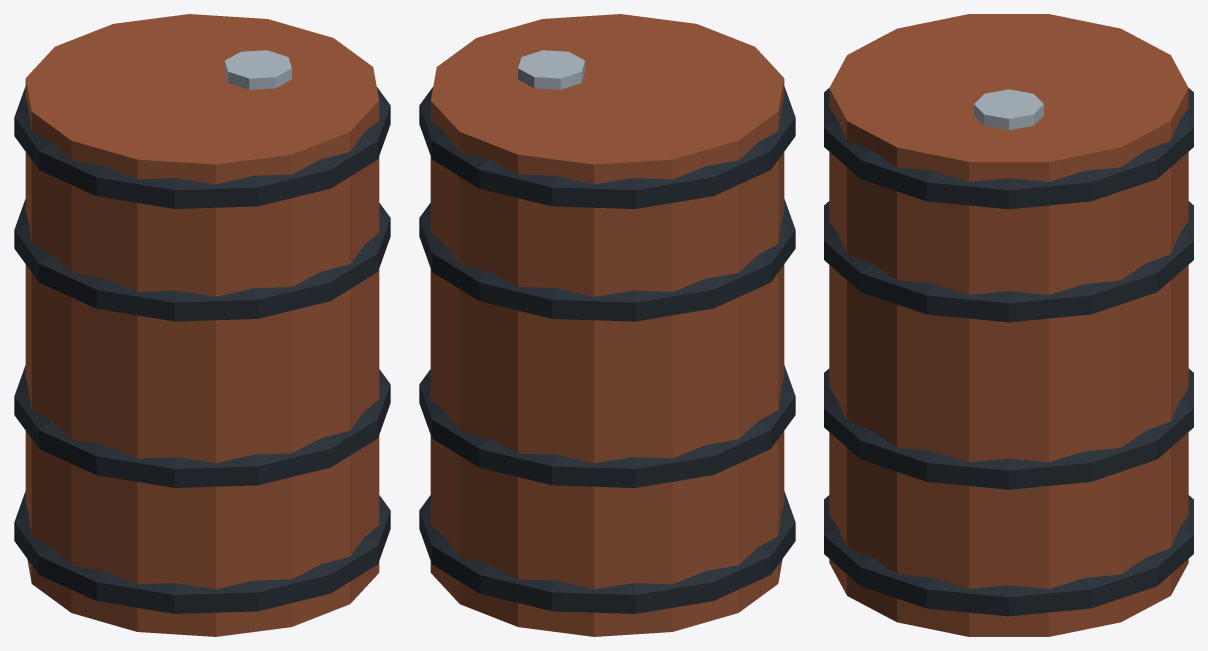
Rendered from oil_barrel_rust.glb.
The picture shows the model from 3 angles, left to right: view 1: azimuth 30°, elevation 25°; view 2: azimuth 150°, elevation 25°; view 3: azimuth 270°, elevation 25°; orthographic projection.
Visible parts, largest first — view 1: oil_barrel_rust__static; view 2: oil_barrel_rust__static; view 3: oil_barrel_rust__static.
Boxes of the visible parts, x1,y1,x2,y2 form: oil_barrel_rust__static: (14, 14, 390, 636); oil_barrel_rust__static: (419, 14, 795, 636); oil_barrel_rust__static: (824, 14, 1193, 636).
Size of the model in its own units: 0.76 by 1.08 by 0.7409.
